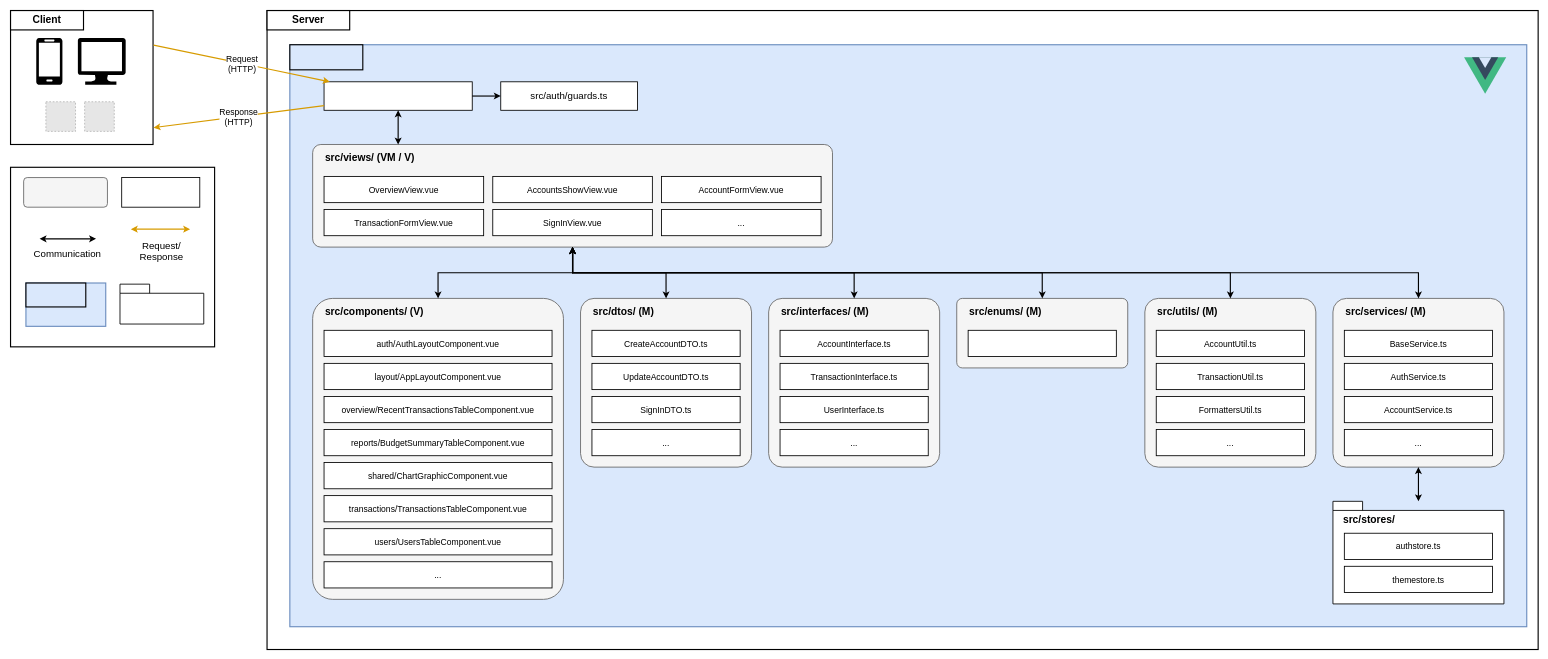
Image size: 1548x659. Some labels were removed from this diagram. Grey dashed boxes stand in for pictures. The centre of each missing label's shape, as x and y in pixels:
"Class/File" belongs at point 160,192.
"constants.ts" belongs at point 1042,343.
"Frontend" belongs at point 326,57.
"layer" belongs at point 65,192.
"package" belongs at point 161,303.
"Project" belongs at point 55,294.
"src/router/index.ts" belongs at point 397,95.
